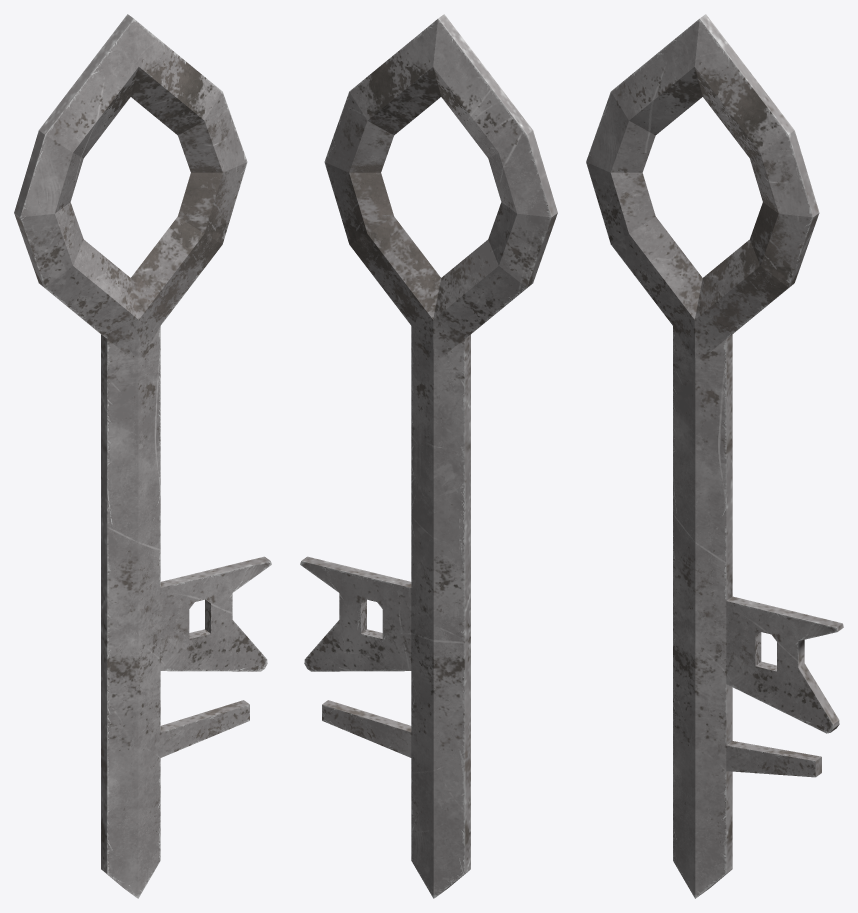
Rendered from simplekey_textured_rae.fbx.
3 views of the same model, side by side, from view 1: azimuth 30°, elevation 25°; view 2: azimuth 150°, elevation 25°; view 3: azimuth 330°, elevation 25° (orthographic).
Parts seen in each view (by area): view 1: good_key; view 2: good_key; view 3: good_key.
Boxes of the visible parts, bbox=[...] form: good_key: bbox=[14, 14, 271, 898]; good_key: bbox=[300, 14, 557, 898]; good_key: bbox=[586, 14, 843, 898].
Bounding box in the file's own units: 3.91 × 13.03 × 0.4331.
Materials: 1 (1 with a texture image).
